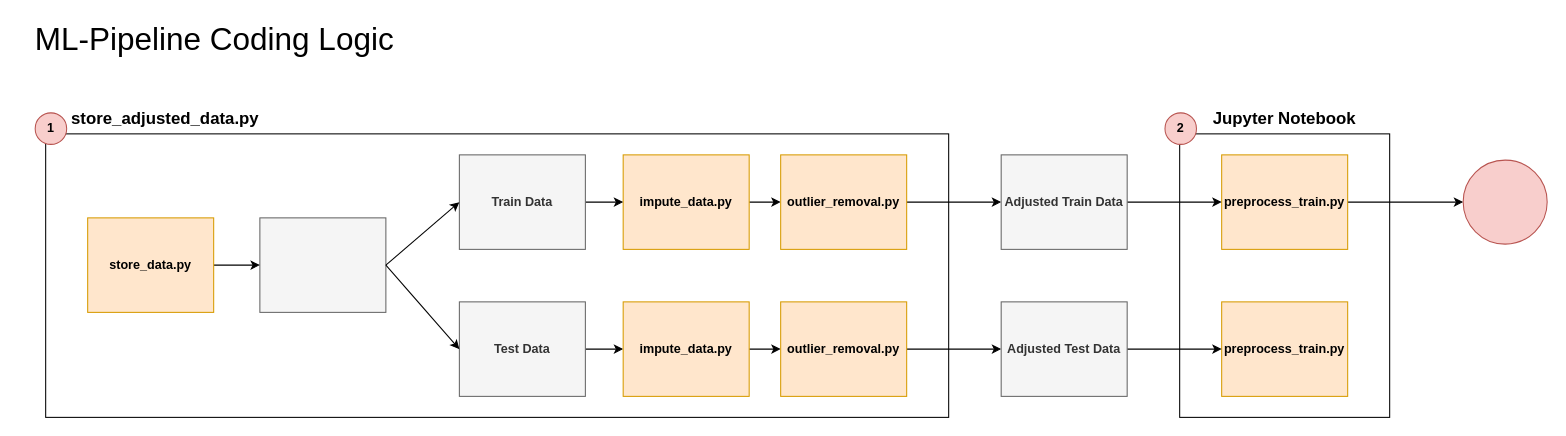
The diagram is 1566 pixels wide and 436 high, and some of its shapes have lost their labels. The shapes that lost their labels are listed below. From the top down, each one's box as (x1, y1, x2, y2) in pixels, then its label:
(1462, 159, 1547, 244): Model
(259, 217, 386, 312): Raw Data
